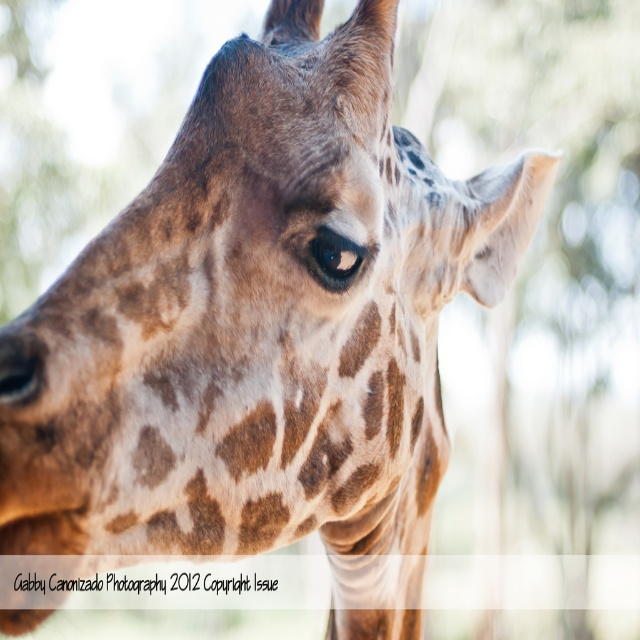Giraffe: (0, 0, 562, 639)
